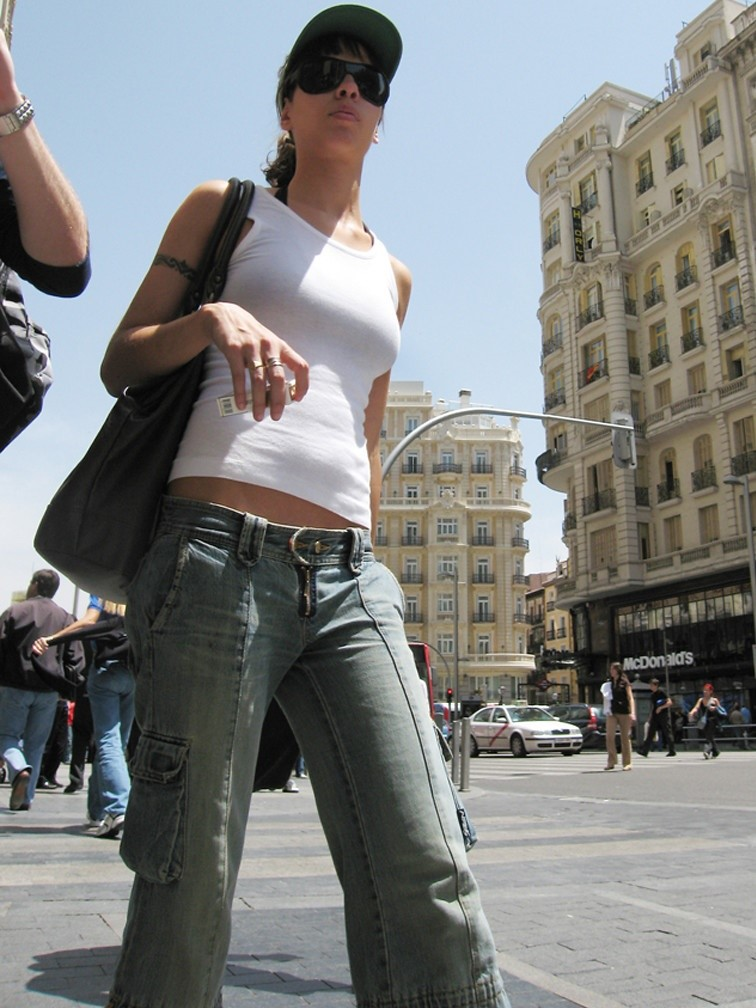face_no_mask: (280, 23, 386, 165)
